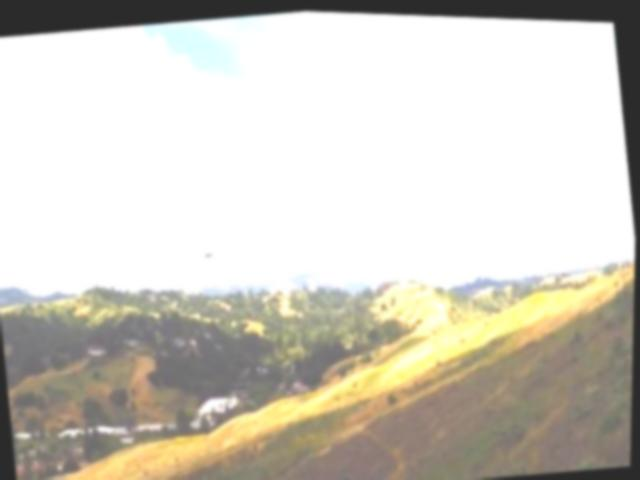iha: (189, 237, 233, 262)
